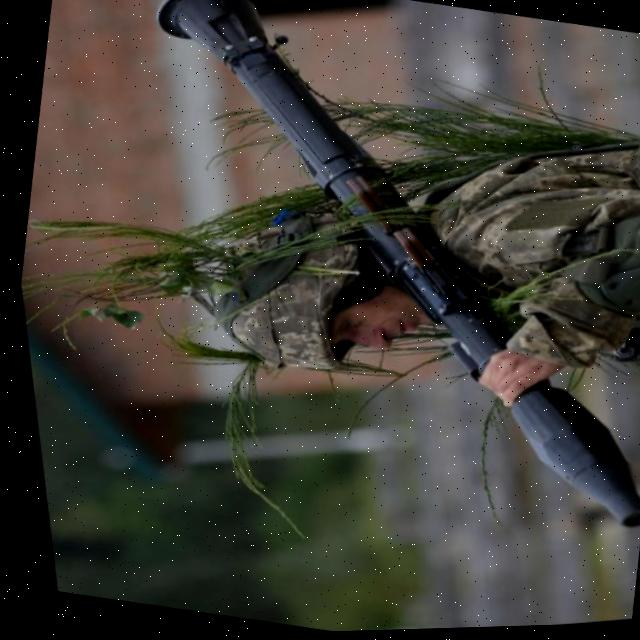rocket: (54, 0, 640, 636)
